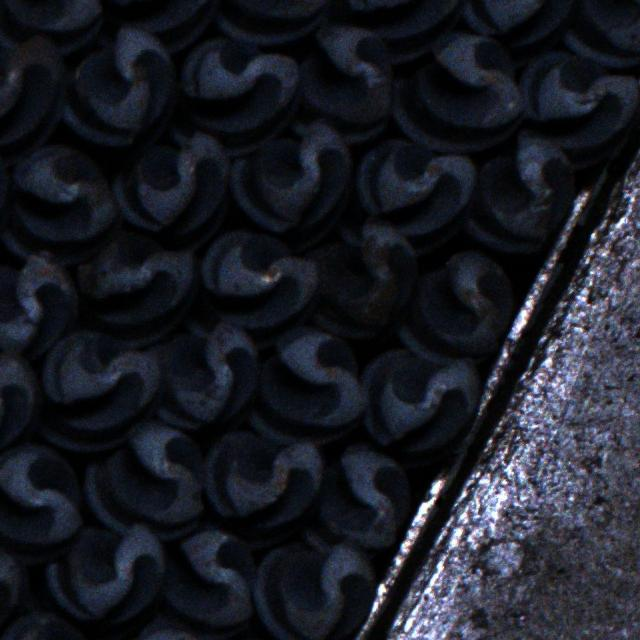tool_b: (388, 32, 524, 154), (230, 118, 352, 254), (168, 36, 302, 156), (338, 137, 474, 255), (38, 328, 164, 451), (59, 23, 175, 155), (83, 422, 208, 542), (112, 128, 234, 250), (518, 49, 640, 168), (247, 326, 366, 446), (45, 521, 164, 640), (1, 146, 119, 266), (302, 217, 416, 341), (185, 232, 317, 338), (464, 128, 575, 254), (204, 430, 322, 548), (77, 232, 199, 346), (361, 348, 477, 466), (398, 251, 516, 365), (299, 441, 412, 553), (290, 22, 394, 142), (252, 541, 374, 640), (152, 316, 256, 430), (159, 526, 260, 638), (0, 443, 86, 565), (0, 249, 77, 363), (0, 33, 65, 166), (333, 0, 467, 64), (458, 0, 578, 65), (96, 0, 220, 52)
